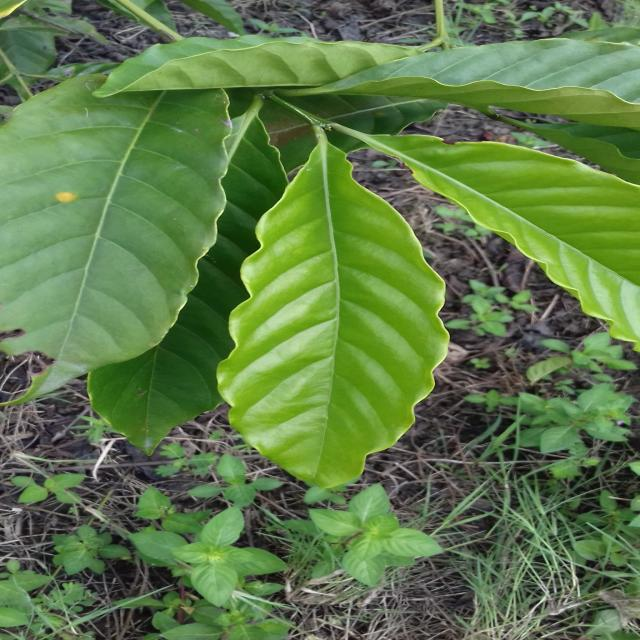Sanas: (215, 138, 447, 492)
